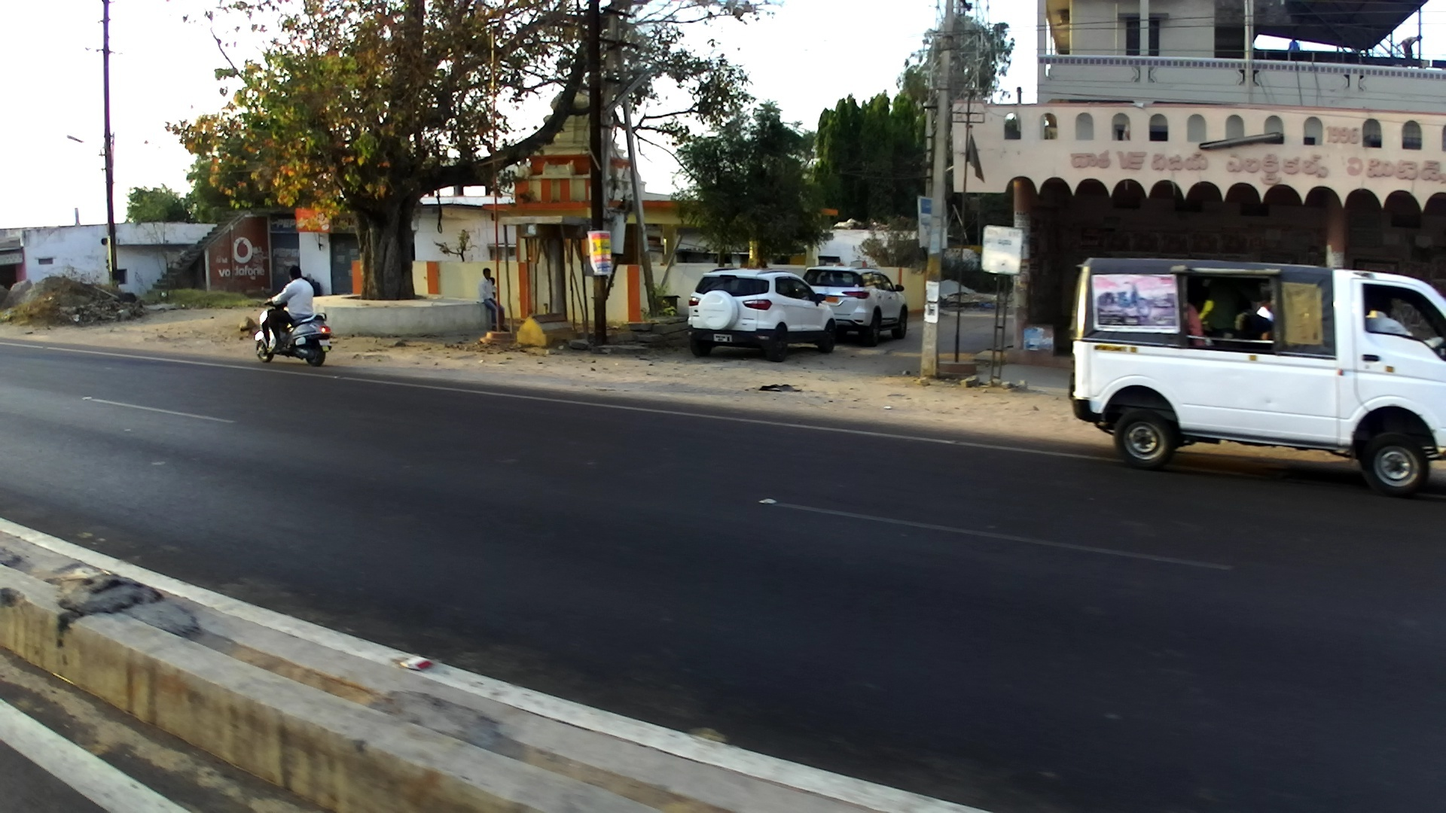car: (1068, 254, 1446, 494), (685, 268, 837, 362), (804, 266, 913, 347)
motorcycle: (254, 297, 332, 366)
person: (478, 268, 508, 333), (1398, 31, 1424, 60), (1287, 38, 1303, 56)
rider: (267, 267, 315, 350)
